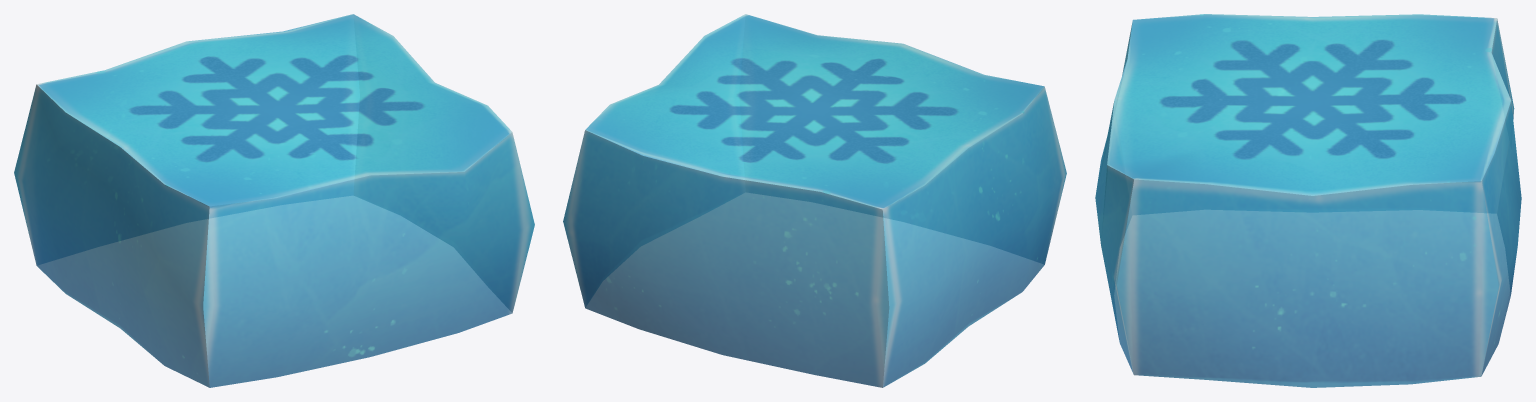
File: ice.fbx
3 views of the same model, side by side, from view 1: azimuth 30°, elevation 25°; view 2: azimuth 150°, elevation 25°; view 3: azimuth 270°, elevation 25° (orthographic). The views are drawn at different scales.
Visible parts, largest first — view 1: ice_element; view 2: ice_element; view 3: ice_element.
Boxes of the visible parts, x1,y1,x2,y2 form: ice_element: (14,14,534,387); ice_element: (563,14,1066,387); ice_element: (1095,14,1521,387).
Size of the model in its own units: 151 by 73.67 by 145.
